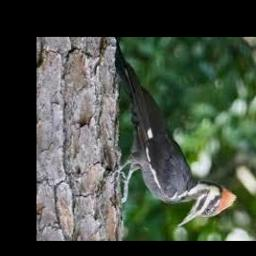Woodpecker: (113, 39, 238, 226)
